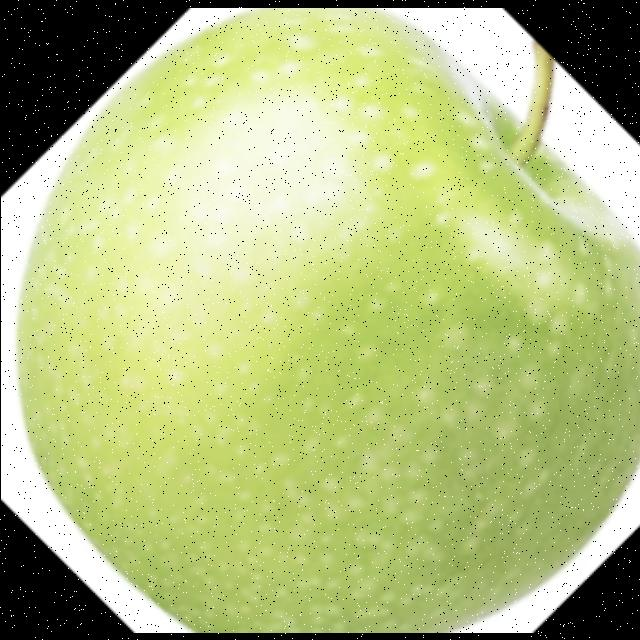Apel Segar: (8, 8, 640, 632)
